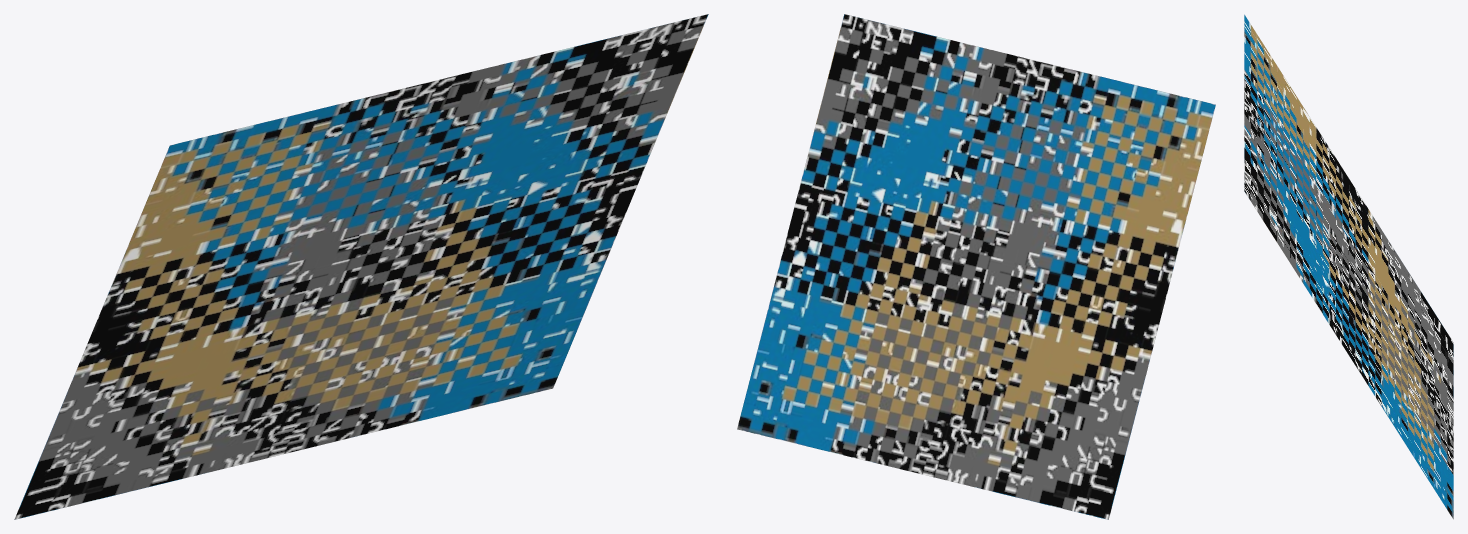
3 renders of one model, left to right at view 1: azimuth 30°, elevation 25°; view 2: azimuth 150°, elevation 25°; view 3: azimuth 270°, elevation 25°, orthographic. The views are drawn at different scales.
Parts seen in each view (by area): view 1: Object232_f35_pfd_0; view 2: Object232_f35_pfd_0; view 3: Object232_f35_pfd_0.
Boxes of the visible parts, x1=… form: Object232_f35_pfd_0: x1=14, y1=14, x2=708, y2=519; Object232_f35_pfd_0: x1=737, y1=14, x2=1215, y2=519; Object232_f35_pfd_0: x1=1244, y1=14, x2=1453, y2=519.
Size of the model in its own units: 4.53 by 3.93 by 2.27.
Materials: 1 (1 with a texture image).
